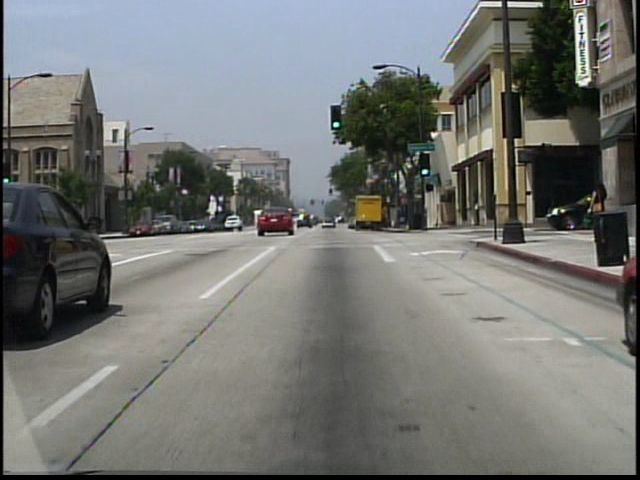person: (583, 176, 608, 245), (472, 199, 481, 230)
